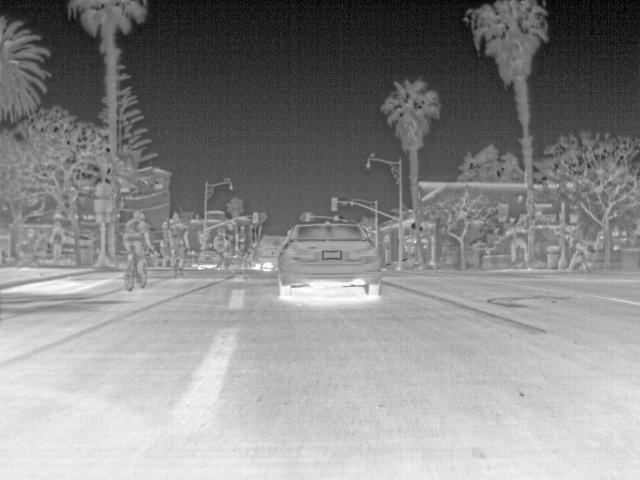car: (276, 215, 382, 296), (251, 234, 289, 271), (197, 248, 223, 270)
person: (121, 211, 152, 282), (166, 218, 189, 271), (215, 228, 234, 271)
